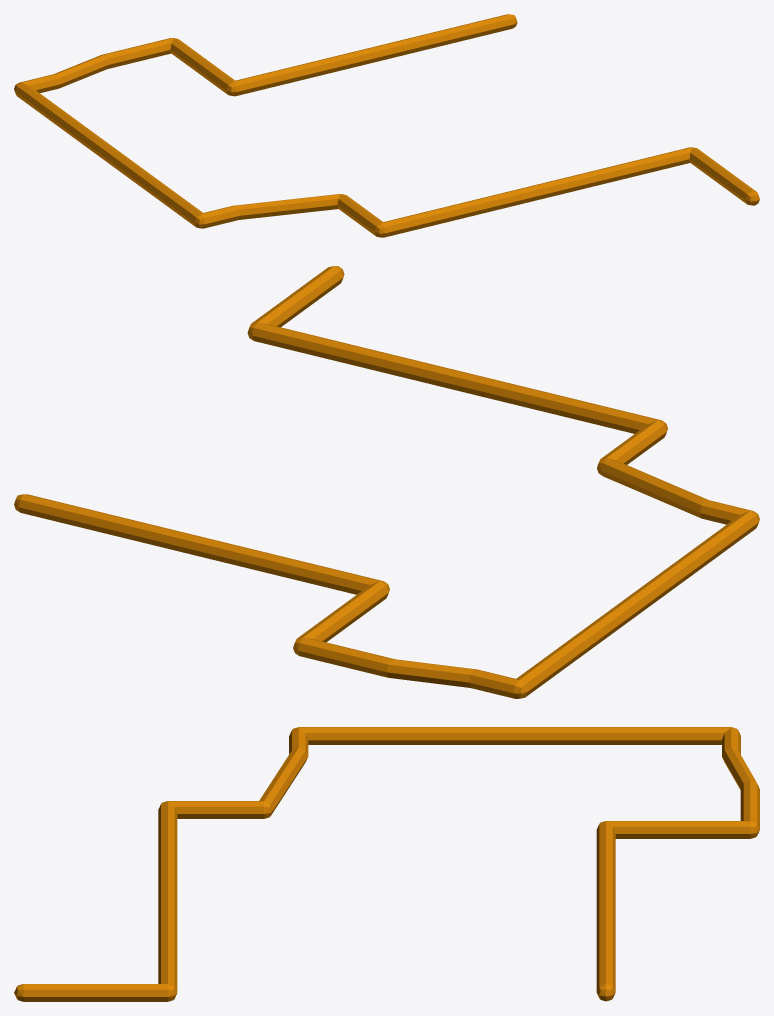
3 renders of one model, top to bottom at view 1: azimuth 30°, elevation 25°; view 2: azimuth 150°, elevation 25°; view 3: azimuth 270°, elevation 25°, orthographic. The views are drawn at different scales.
Size of the model in its own units: 652 by 20 by 776.
